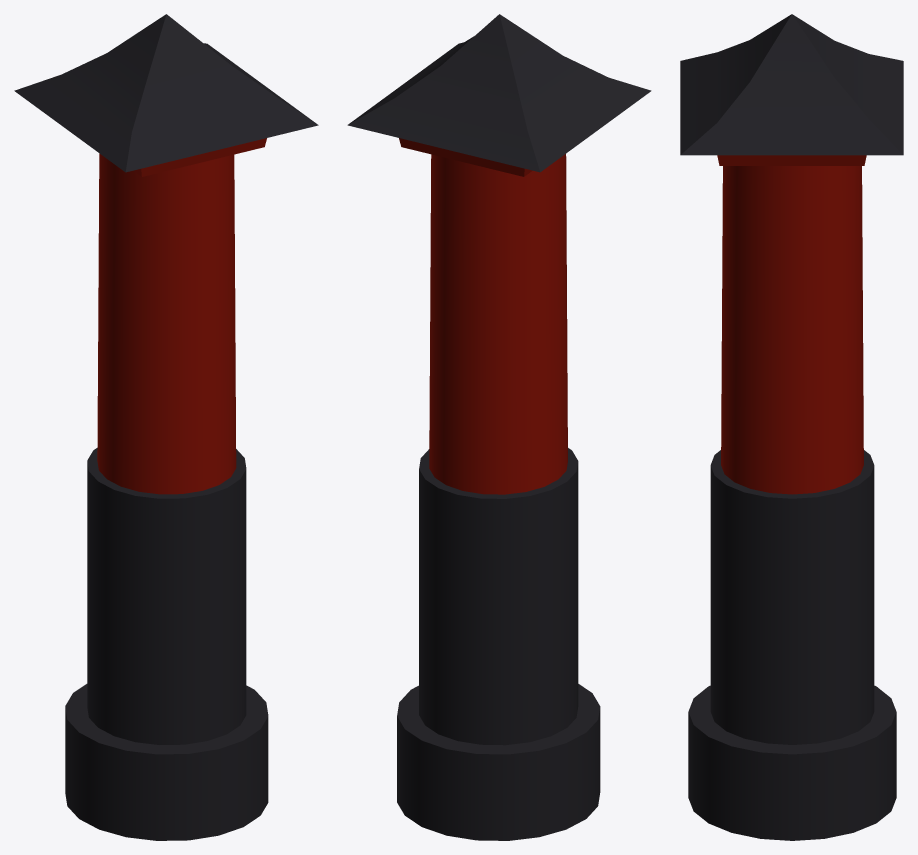
File: single_column1.fbx
The picture shows the model from 3 angles, left to right: view 1: azimuth 30°, elevation 25°; view 2: azimuth 150°, elevation 25°; view 3: azimuth 270°, elevation 25°; orthographic projection.
Parts seen in each view (by area): view 1: single_column1; view 2: single_column1; view 3: single_column1.
Part boxes in pixels (left/top/right/bottom): single_column1: left=14, top=14, right=318, bottom=840; single_column1: left=347, top=14, right=651, bottom=840; single_column1: left=680, top=14, right=903, bottom=840.
Bounding box in the file's own units: 130 × 502 × 130.
